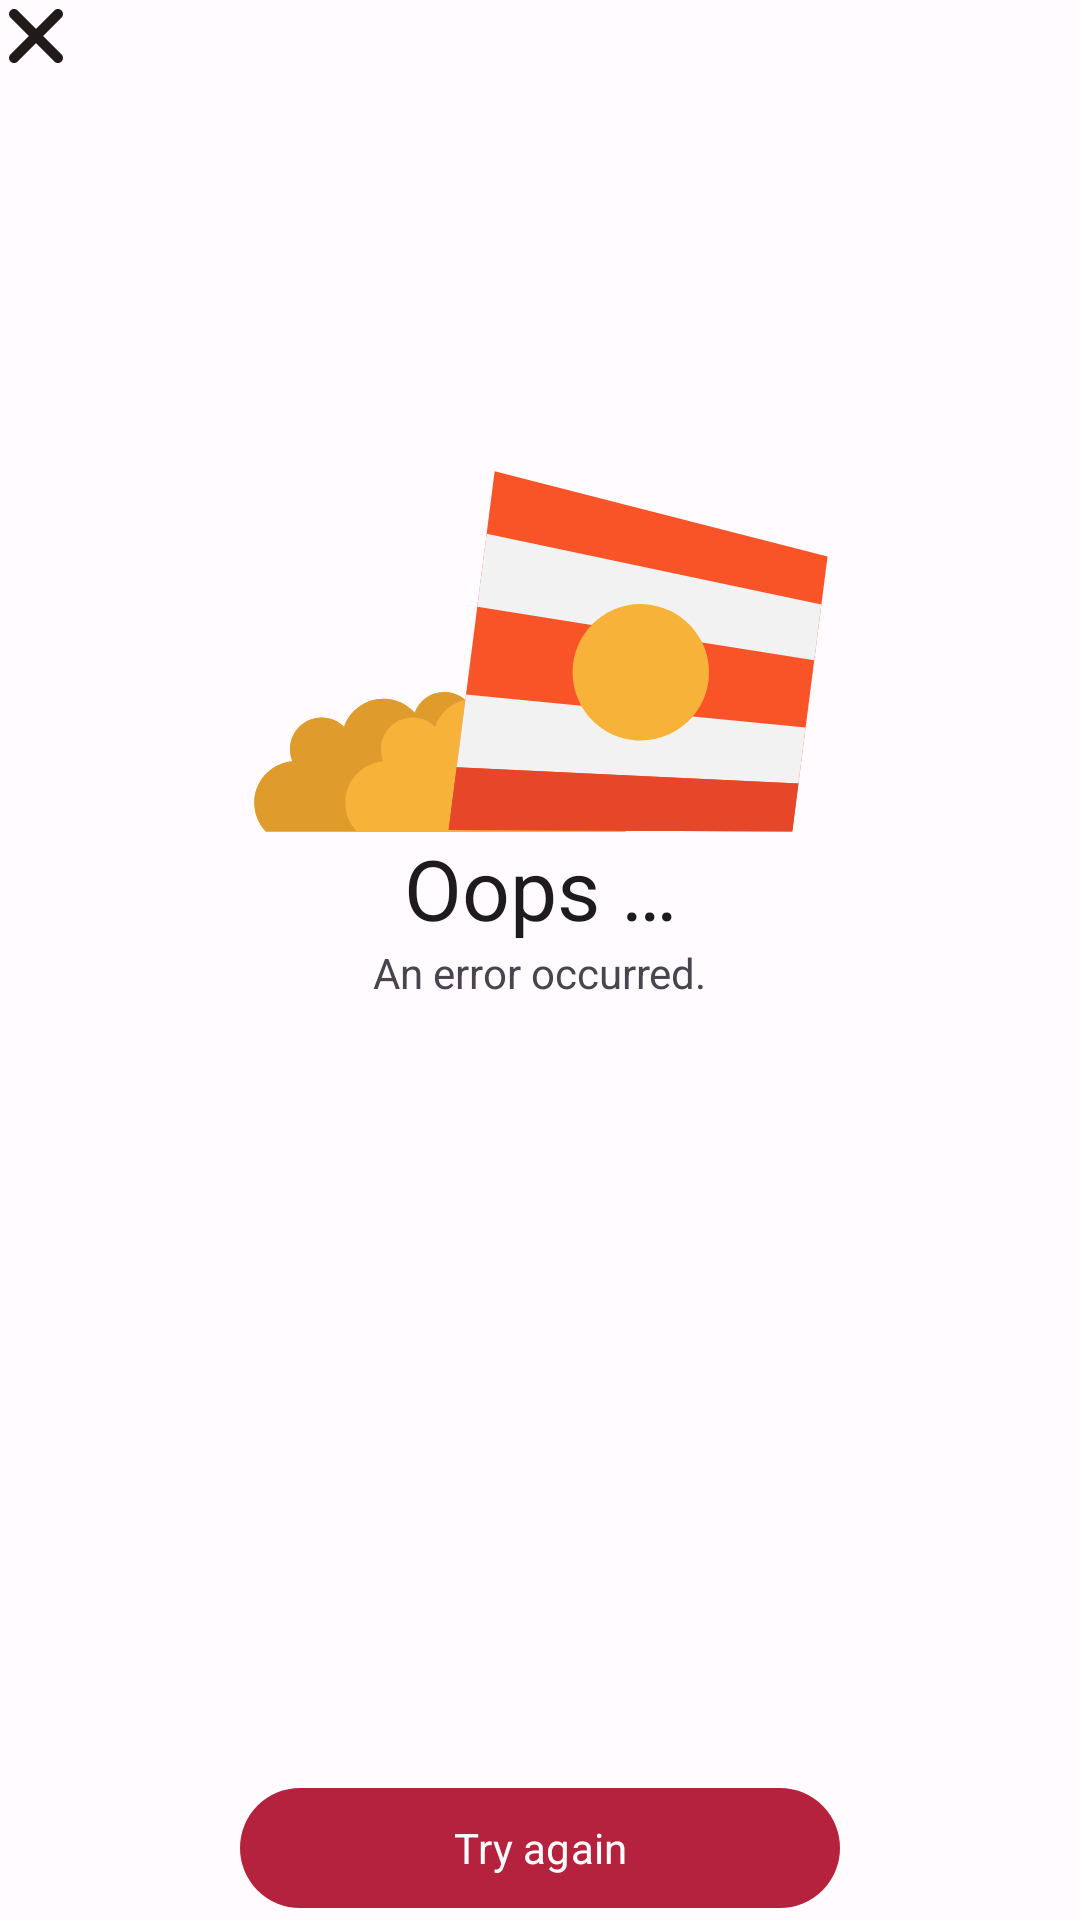

Where to tap for icons on this 1080×1920 app screen, as (x,y):
Close: (36,36)
